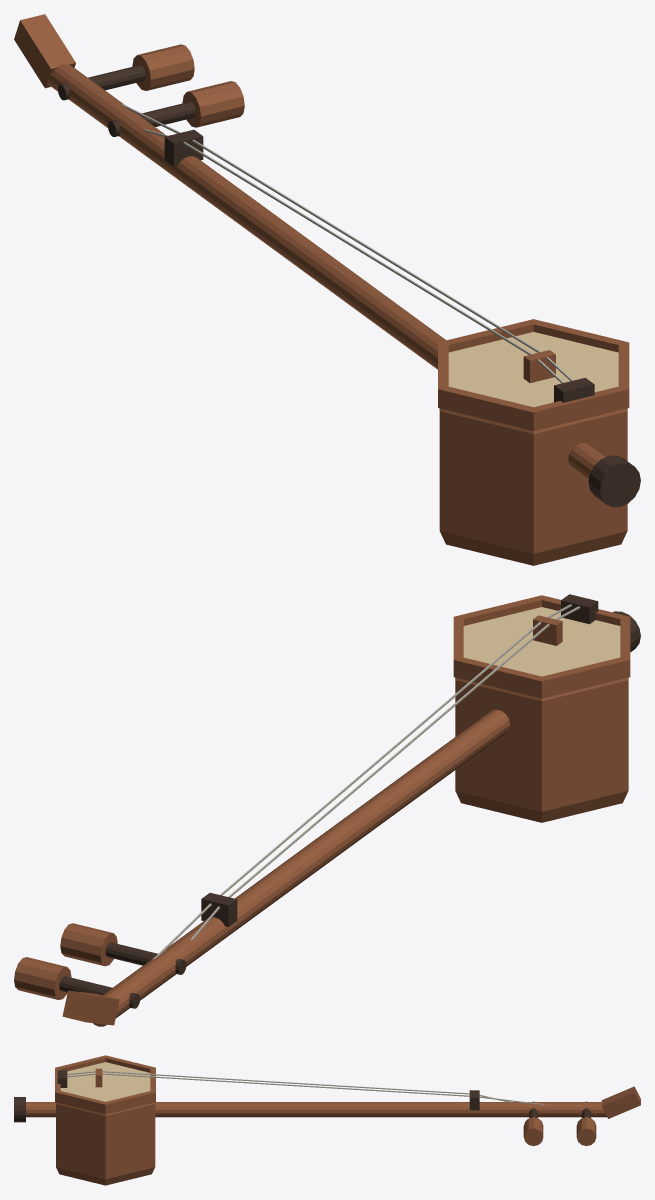
3 renders of one model, top to bottom at view 1: azimuth 30°, elevation 25°; view 2: azimuth 150°, elevation 25°; view 3: azimuth 270°, elevation 25°, orthographic. The views are drawn at different scales.
Parts seen in each view (by area): view 1: WholeGroundFootOpenRearHexagonalResonator, WholeContinuousBodySpikeAndRoundNeck, WholeRaisedHexagonalFrontRim, WholeThinFrontHexagonalMembrane, WholeUpperBentHead, WholeLowerTailButton, WholeThickSidePegGrip_0, WholeThickSidePegGrip_1, WholeSupportedString_1_Part1, WholeSupportedString_0_Part1, WholeUpperStringBinding, WholeLongSidePegShaft_1 (+3 smaller); view 2: WholeGroundFootOpenRearHexagonalResonator, WholeContinuousBodySpikeAndRoundNeck, WholeThinFrontHexagonalMembrane, WholeRaisedHexagonalFrontRim, WholeThickSidePegGrip_1, WholeThickSidePegGrip_0, WholeUpperBentHead, WholeSupportedString_0_Part1, WholeSupportedString_1_Part1, WholeUpperStringBinding, WholeLongSidePegShaft_0, WholeTailStringAnchor (+2 smaller); view 3: WholeContinuousBodySpikeAndRoundNeck, WholeGroundFootOpenRearHexagonalResonator, WholeThinFrontHexagonalMembrane, WholeRaisedHexagonalFrontRim, WholeUpperBentHead, WholeSupportedString_0_Part1, WholeSupportedString_1_Part1, WholeThickSidePegGrip_0, WholeThickSidePegGrip_1, WholeLowerTailButton, WholeUpperStringBinding.
Part boxes in pixels (x1,y1,x2,y2): WholeGroundFootOpenRearHexagonalResonator: (439, 408, 627, 565); WholeContinuousBodySpikeAndRoundNeck: (47, 63, 605, 479); WholeRaisedHexagonalFrontRim: (438, 319, 629, 431); WholeThinFrontHexagonalMembrane: (448, 332, 618, 407); WholeUpperBentHead: (14, 14, 75, 88); WholeLowerTailButton: (588, 455, 640, 507); WholeThickSidePegGrip_0: (182, 81, 244, 127); WholeThickSidePegGrip_1: (132, 44, 194, 90); WholeSupportedString_1_Part1: (192, 139, 540, 352); WholeSupportedString_0_Part1: (183, 142, 531, 354); WholeUpperStringBinding: (164, 129, 203, 166); WholeLongSidePegShaft_1: (58, 65, 145, 100); WholeGroundFootOpenRearHexagonalResonator: (455, 677, 628, 822); WholeContinuousBodySpikeAndRoundNeck: (93, 709, 509, 1026); WholeThinFrontHexagonalMembrane: (463, 607, 620, 676); WholeRaisedHexagonalFrontRim: (453, 595, 630, 698); WholeThickSidePegGrip_1: (14, 957, 71, 999); WholeThickSidePegGrip_0: (60, 923, 117, 966); WholeUpperBentHead: (62, 990, 119, 1025); WholeSupportedString_0_Part1: (228, 623, 549, 897); WholeSupportedString_1_Part1: (220, 621, 541, 895); WholeUpperStringBinding: (201, 892, 237, 926); WholeLongSidePegShaft_0: (105, 942, 186, 974); WholeTailStringAnchor: (561, 594, 598, 624); WholeContinuousBodySpikeAndRoundNeck: (26, 1102, 606, 1117); WholeGroundFootOpenRearHexagonalResonator: (56, 1102, 155, 1185); WholeThinFrontHexagonalMembrane: (60, 1062, 150, 1101); WholeRaisedHexagonalFrontRim: (55, 1055, 155, 1114); WholeUpperBentHead: (601, 1086, 640, 1118); WholeSupportedString_0_Part1: (102, 1071, 469, 1094); WholeSupportedString_1_Part1: (102, 1073, 469, 1096); WholeThickSidePegGrip_0: (523, 1117, 543, 1146); WholeThickSidePegGrip_1: (576, 1117, 596, 1145); WholeLowerTailButton: (14, 1097, 25, 1122); WholeUpperStringBinding: (469, 1090, 479, 1110).
Size of the model in its own units: 0.227 by 0.184 by 1.15.
